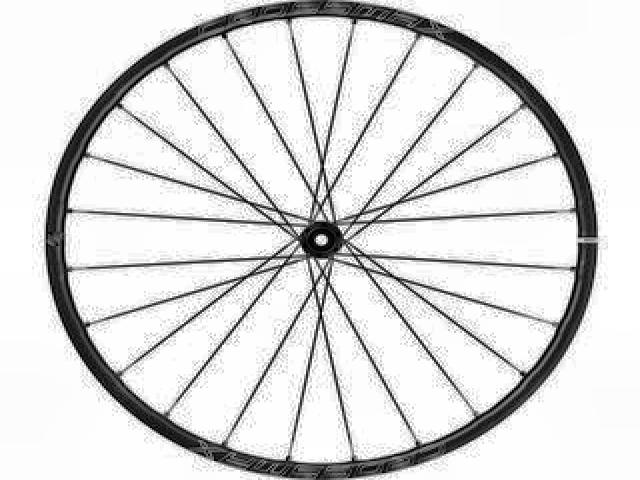wheel: (35, 0, 605, 480)
